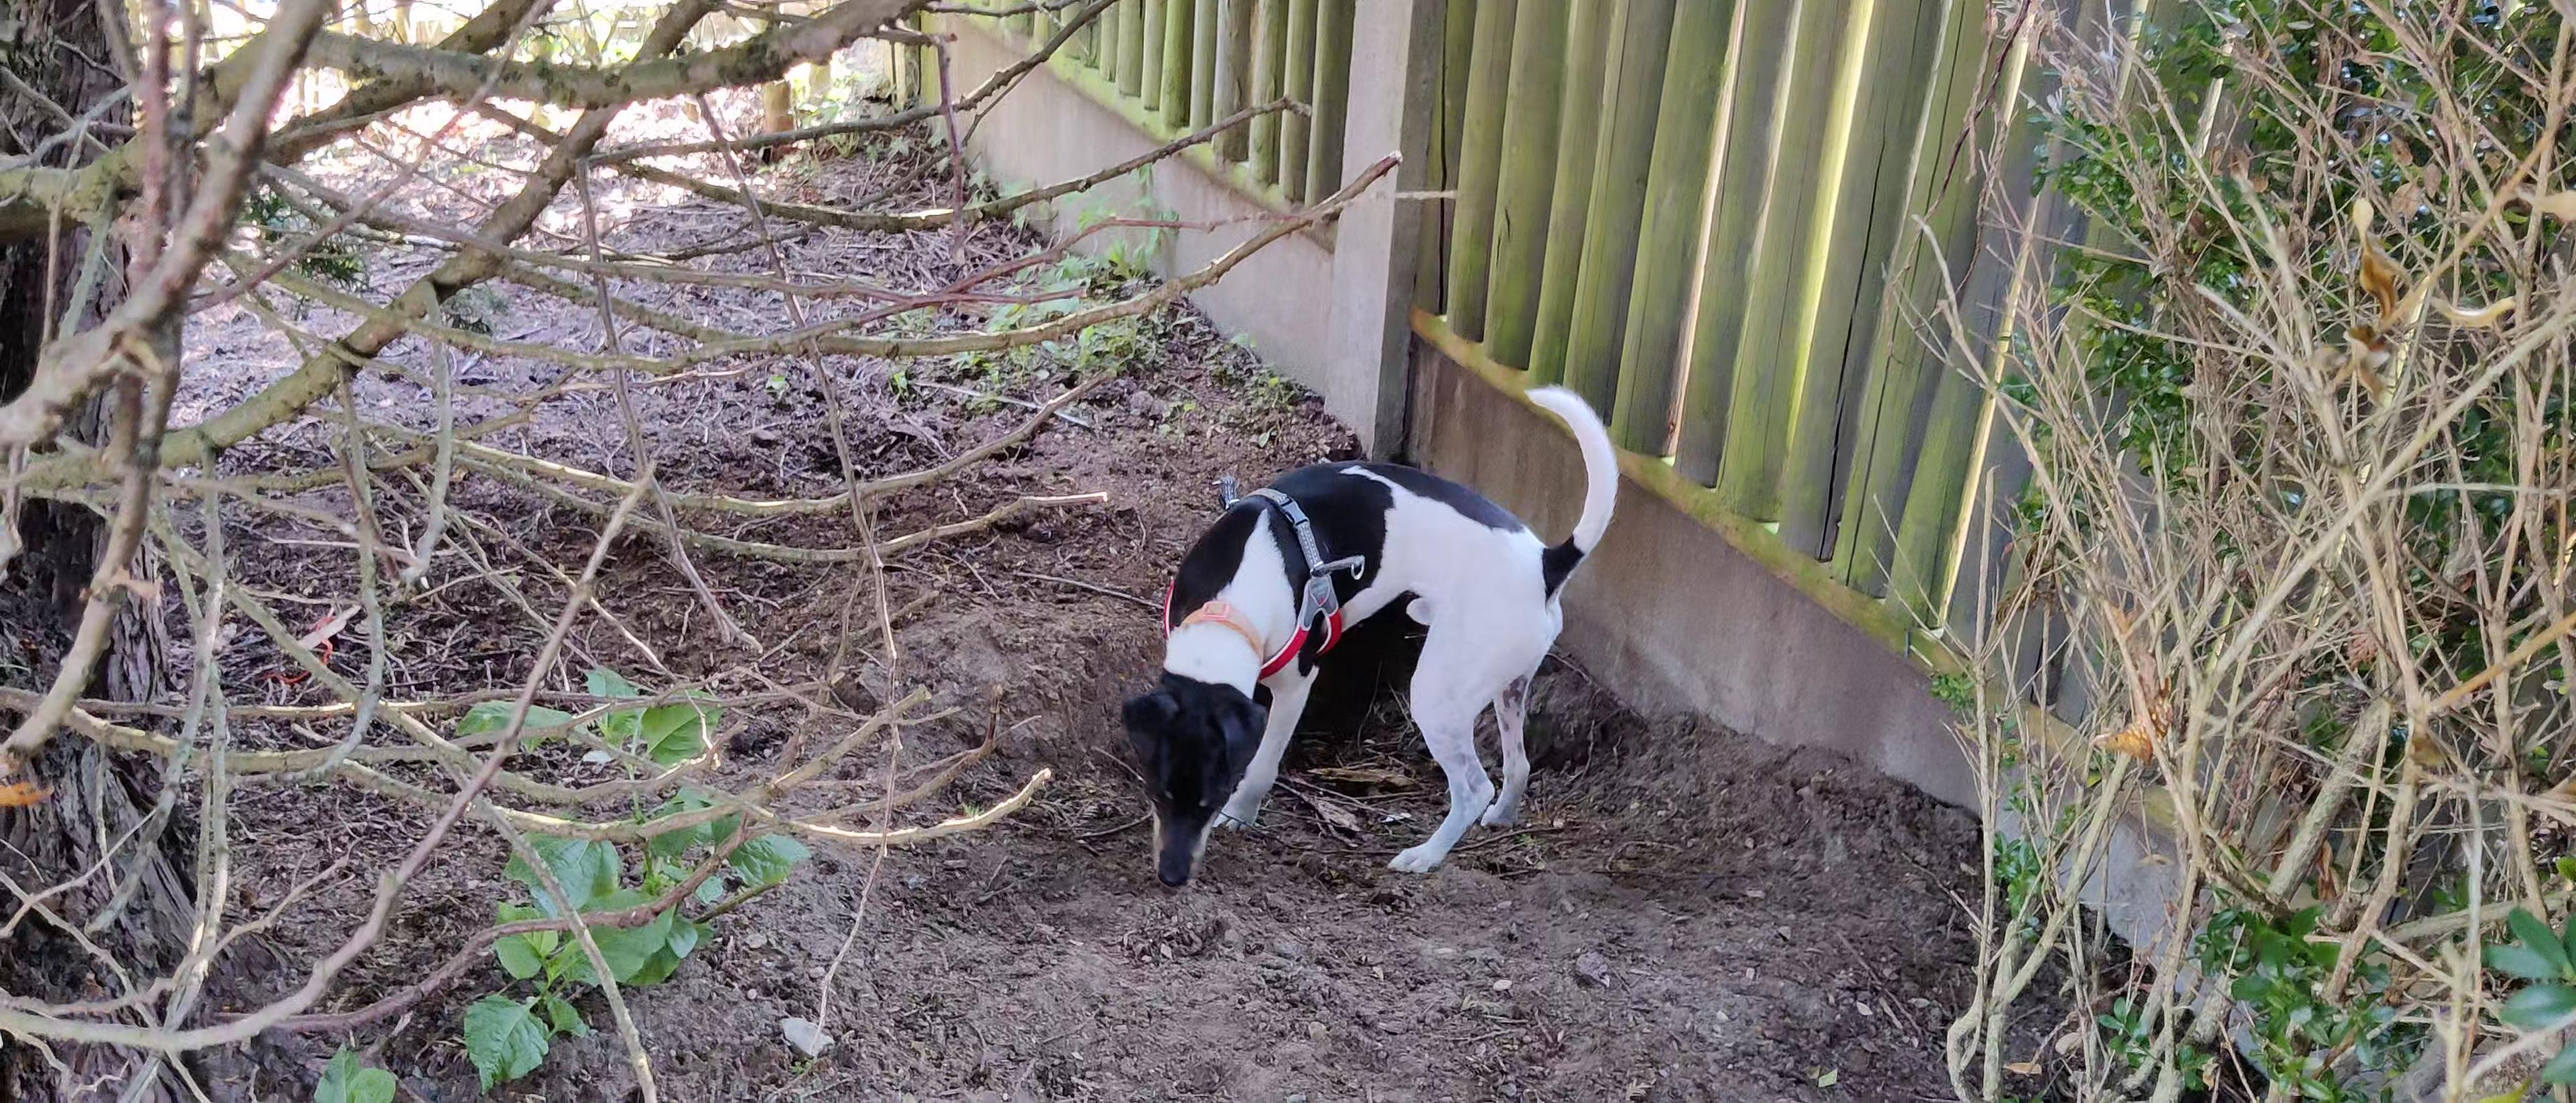Dog: (1079, 375, 1631, 902)
